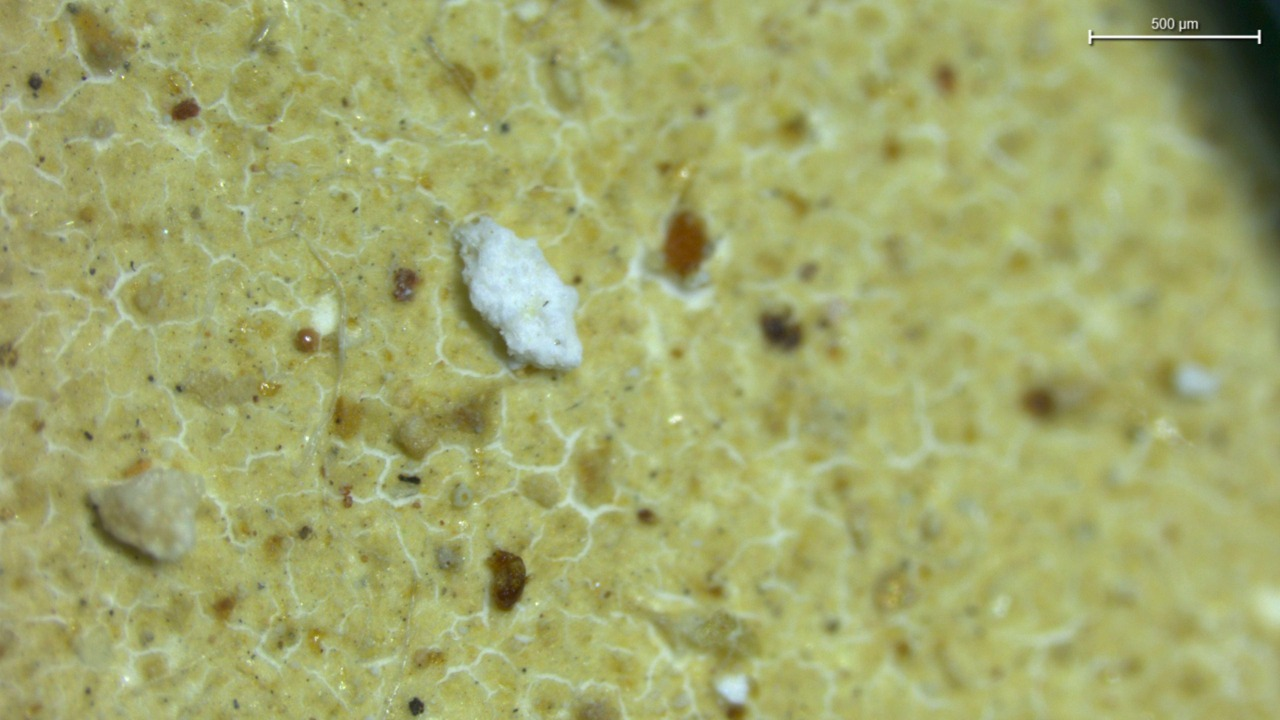microplastic_fragment: (454, 216, 582, 370), (88, 468, 203, 562), (1175, 365, 1219, 397), (715, 673, 750, 706)
